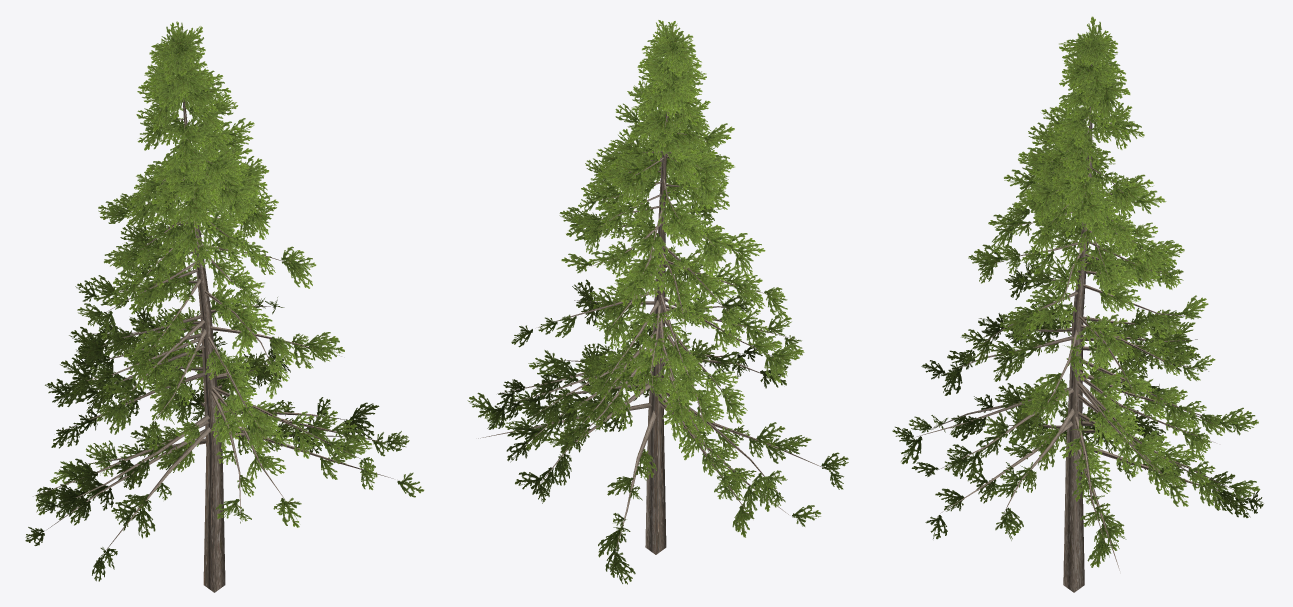
Rendered from pine_medium_b.glb.
3 renders of one model, left to right at view 1: azimuth 30°, elevation 25°; view 2: azimuth 150°, elevation 25°; view 3: azimuth 270°, elevation 25°, orthographic. The views are drawn at different scales.
Visible parts, largest first — view 1: leaves, trunk; view 2: leaves, trunk; view 3: leaves, trunk.
Part boxes in pixels (x1,y1,x2,y2): leaves: (25, 21, 424, 581); trunk: (33, 98, 393, 592); leaves: (467, 20, 848, 584); trunk: (478, 108, 832, 556); leaves: (892, 16, 1263, 567); trunk: (912, 64, 1249, 592).
Bounding box in the file's own units: 6.79 × 10 × 6.38.
2 materials, 2 textured.
